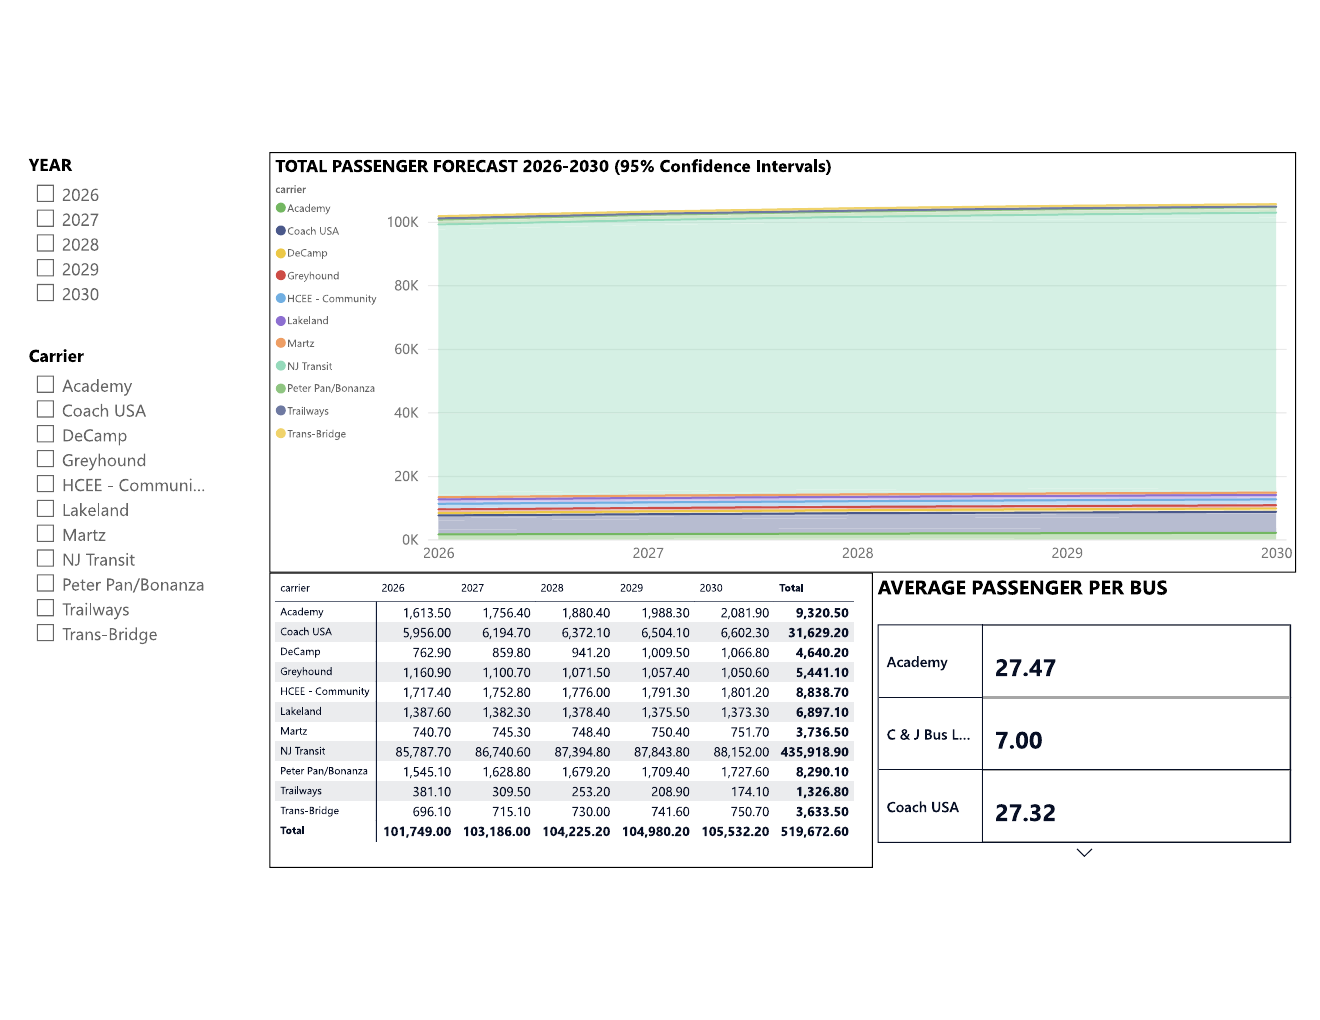

This screenshot's page, from the dashboard's own definition file:
{"tool":"powerbi","page":{"name":"Q3: Carrier Level Forecast 2026-2030","canvas":[1280,720],"ordinal":2},"visuals":[{"type":"stackedAreaChart","title":"TOTAL PASSENGER FORECAST 2026-2030 (95% Confidence Intervals)","fields":{"Category":["4_Carrier_Passenger_Forecast.year"],"Series":["4_Carrier_Passenger_Forecast.carrier"],"Y":["Sum(4_Carrier_Passenger_Forecast.predicted_avg_weekly_passengers)"]},"box":[247,0,1033.3,422.6],"z":0},{"type":"pivotTable","title":"AVERAGE PASSENGER FORECAST 2026-2030 (2019 Baseline)","fields":{"Rows":["4_Carrier_Passenger_Forecast.carrier"],"Columns":["4_Carrier_Passenger_Forecast.year"],"Values":["Sum(4_Carrier_Passenger_Forecast.predicted_avg_weekly_passengers)"]},"box":[247,422.6,606.5,297.8],"z":1000},{"type":"slicer","title":"YEAR","fields":{"Values":["4_Carrier_Passenger_Forecast.year"]},"box":[0,0,160.5,167.4],"z":2000},{"type":"slicer","title":"Carrier","fields":{"Values":["4_Carrier_Passenger_Forecast.carrier"]},"box":[0,192.1,189.4,333.4],"z":2001},{"type":"cardVisual","title":"AVERAGE PASSENGER PER BUS","fields":{"Data":["Avg(4_Carrier_Passenger_Forecast.avg_passengers_per_bus)"],"Rows":["4_Carrier_Passenger_Forecast.carrier"]},"box":[853.5,422.6,426.8,297.8],"z":2002}]}

Visuals, with their boxes on the page's 1280x720 design canvas (x1, y1, x2, y2). These are canvas units, not pixel positions in the 1320x1020 screenshot, which may show the page scaled, cropped or inside an application window:
"TOTAL PASSENGER FORECAST 2026-2030 (95% Confidence Intervals)" stackedAreaChart: (left=247, top=0, right=1280, bottom=423)
"AVERAGE PASSENGER FORECAST 2026-2030 (2019 Baseline)" pivotTable: (left=247, top=423, right=854, bottom=720)
"YEAR" slicer: (left=0, top=0, right=160, bottom=167)
"Carrier" slicer: (left=0, top=192, right=189, bottom=526)
"AVERAGE PASSENGER PER BUS" cardVisual: (left=854, top=423, right=1280, bottom=720)
